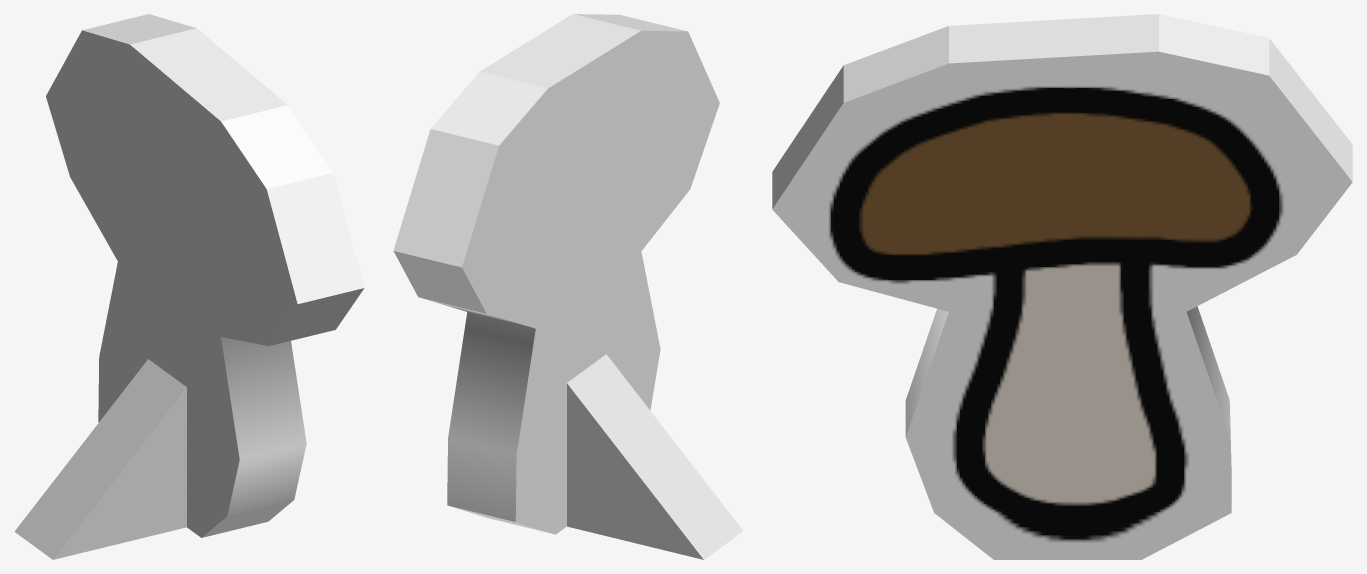
The model's file is mushroom.fbx.
3 views of the same model, side by side, from view 1: azimuth 30°, elevation 25°; view 2: azimuth 150°, elevation 25°; view 3: azimuth 270°, elevation 25° (orthographic). The views are drawn at different scales.
Parts seen in each view (by area): view 1: pCube20, pCube32; view 2: pCube20, pCube32; view 3: pCube20.
Boxes of the visible parts, box(x1,y1,x2,y2) form: pCube20: box(46, 14, 364, 537); pCube32: box(14, 359, 186, 559); pCube20: box(393, 14, 719, 534); pCube32: box(567, 354, 742, 559); pCube20: box(772, 14, 1352, 559).
Size of the model in its own units: 1.5 by 3.15 by 3.26.
